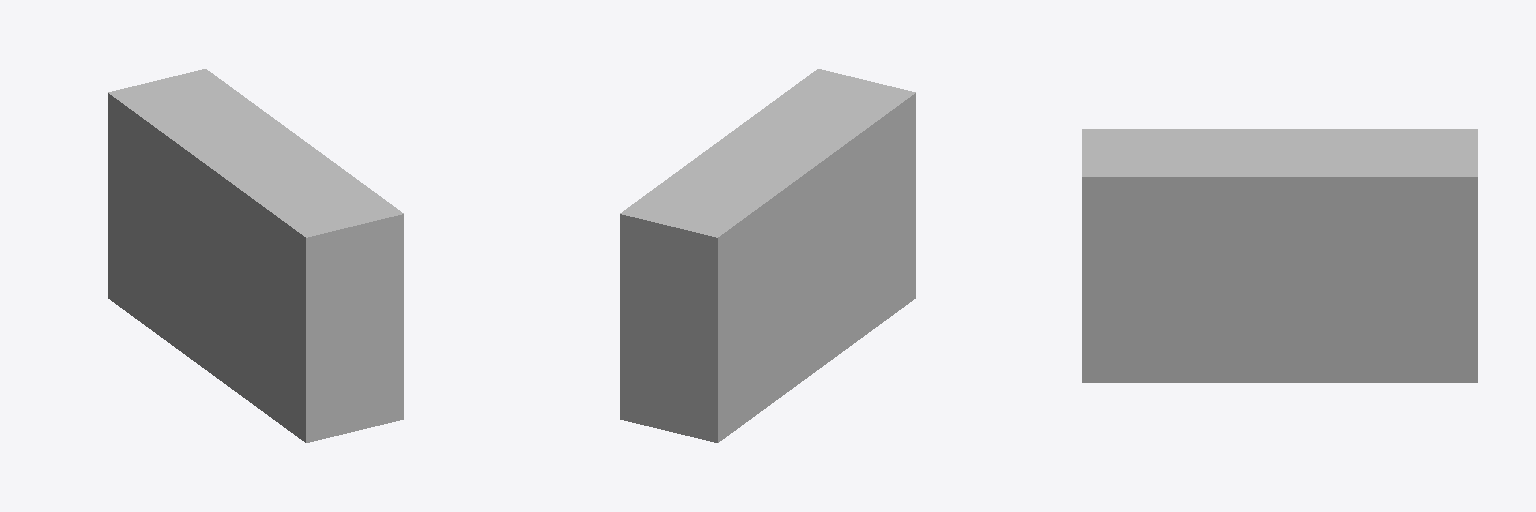
The model's file is Main Ship Flag.obj.
3 views of the same model, side by side, from view 1: azimuth 30°, elevation 25°; view 2: azimuth 150°, elevation 25°; view 3: azimuth 270°, elevation 25° (orthographic).
Visible parts, largest first — view 1: Flag; view 2: Flag; view 3: Flag.
Part boxes in pixels (x1,y1,x2,y2): Flag: (108,69,403,442); Flag: (620,69,915,442); Flag: (1082,129,1477,382).
Bounding box in the file's own units: 0.4 × 0.8 × 1.4.